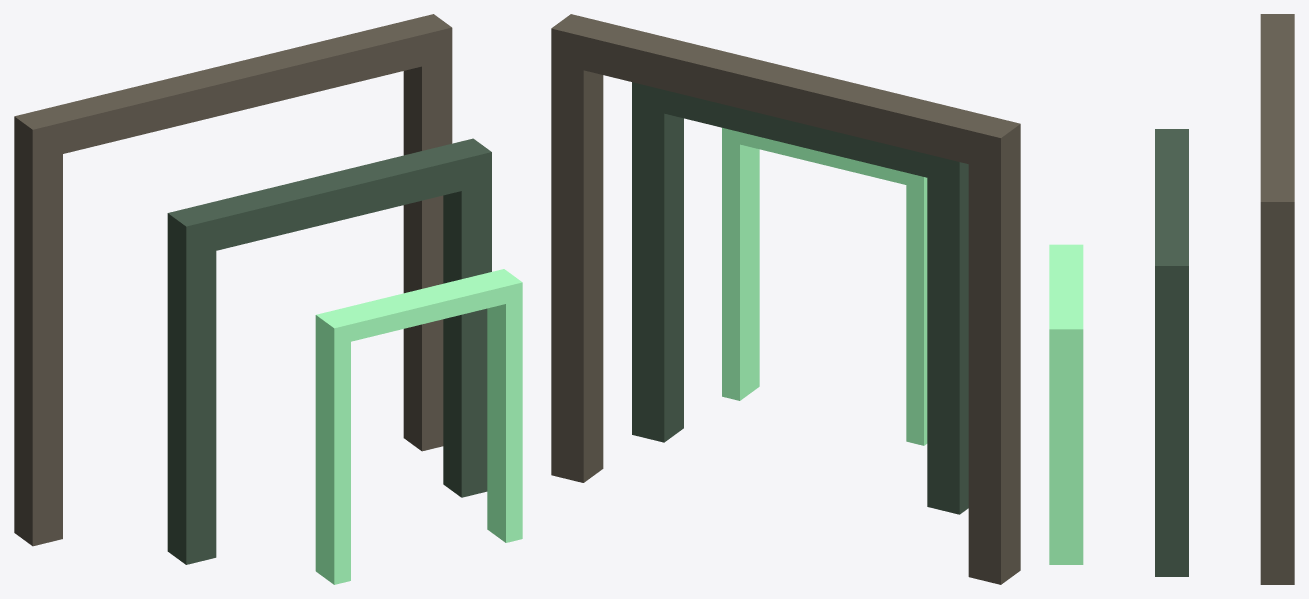
The model's file is frontend-study.glb.
The picture shows the model from 3 angles, left to right: view 1: azimuth 30°, elevation 25°; view 2: azimuth 150°, elevation 25°; view 3: azimuth 270°, elevation 25°; orthographic projection. The views are drawn at different scales.
Visible parts, largest first — view 1: Frontend study; view 2: Frontend study; view 3: Frontend study.
Part boxes in pixels (x1,y1,x2,y2): Frontend study: (14,14,522,584); Frontend study: (551,14,1020,584); Frontend study: (1049,14,1294,584).
Bounding box in the file's own units: 1.18 × 1.12 × 0.65.
